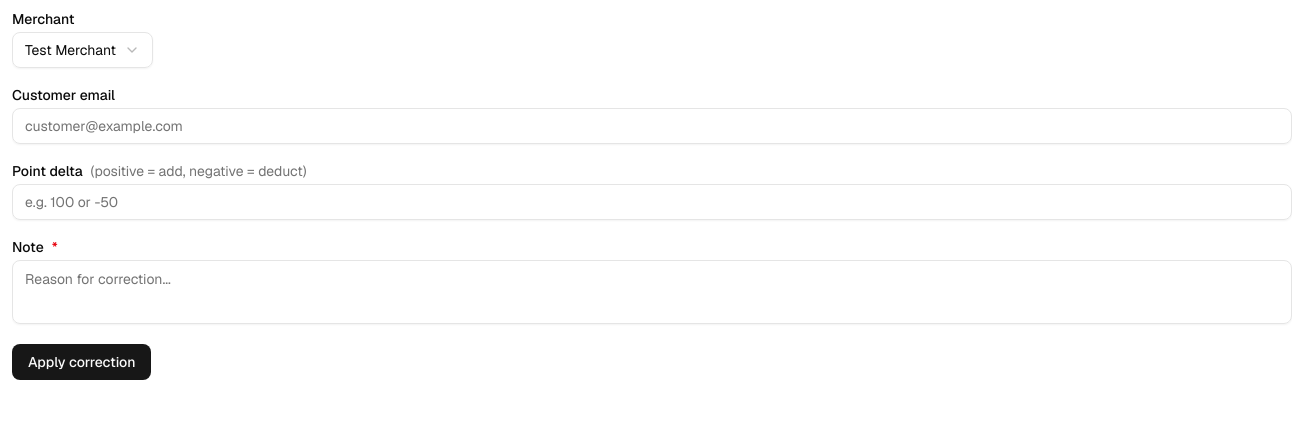
Test: CorrectionForm › shows error when delta is 0
Type "user@example.com" into the field labelled "Customer email" at (652, 126), box top-left (12, 108), bottom-right (1292, 144)
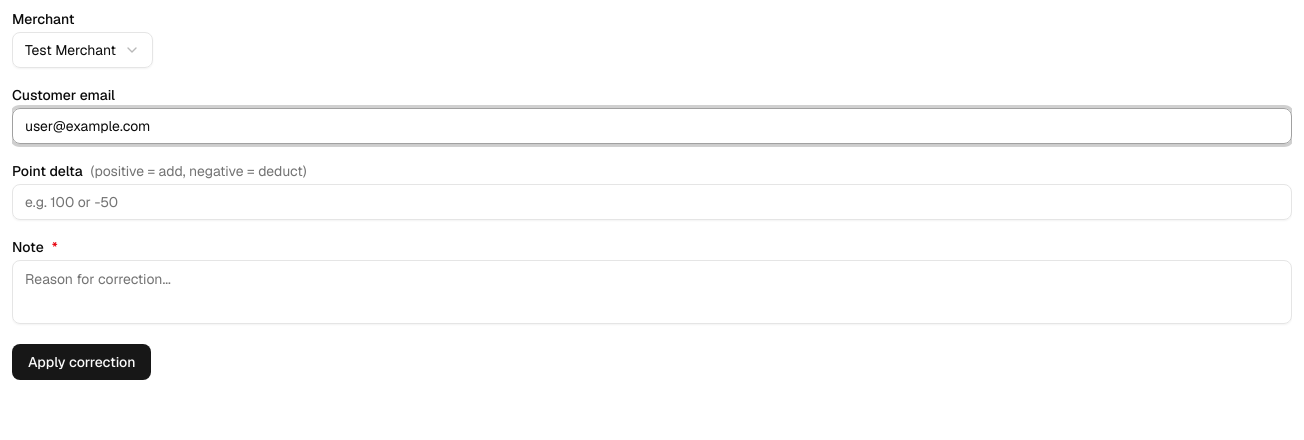
Type "0" into the number field labelled "Point delta (positive = add, negative = deduct)" at (652, 202), box top-left (12, 184), bottom-right (1292, 220)
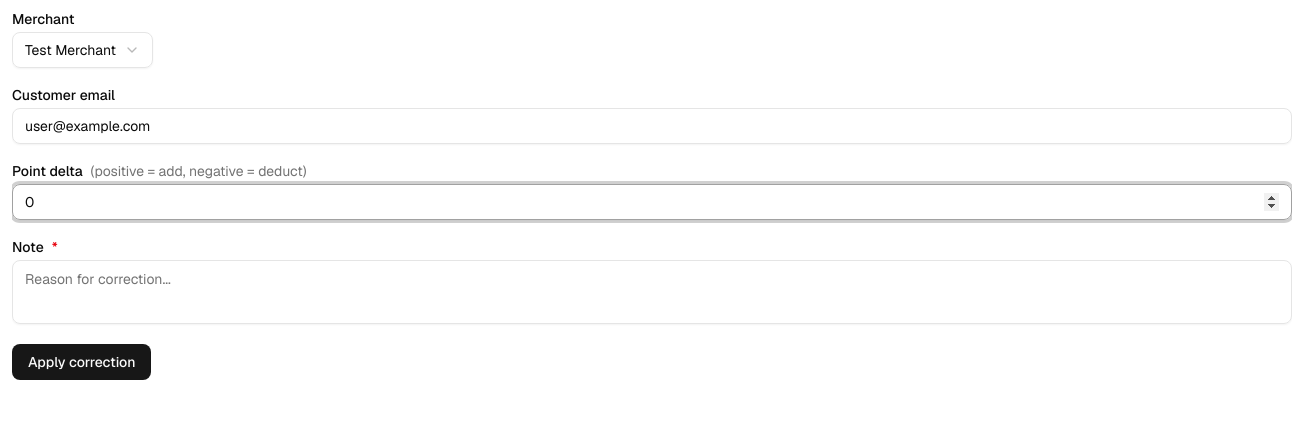
Type "some reason" into the text box labelled "Note *" at (652, 292), box top-left (12, 260), bottom-right (1292, 324)
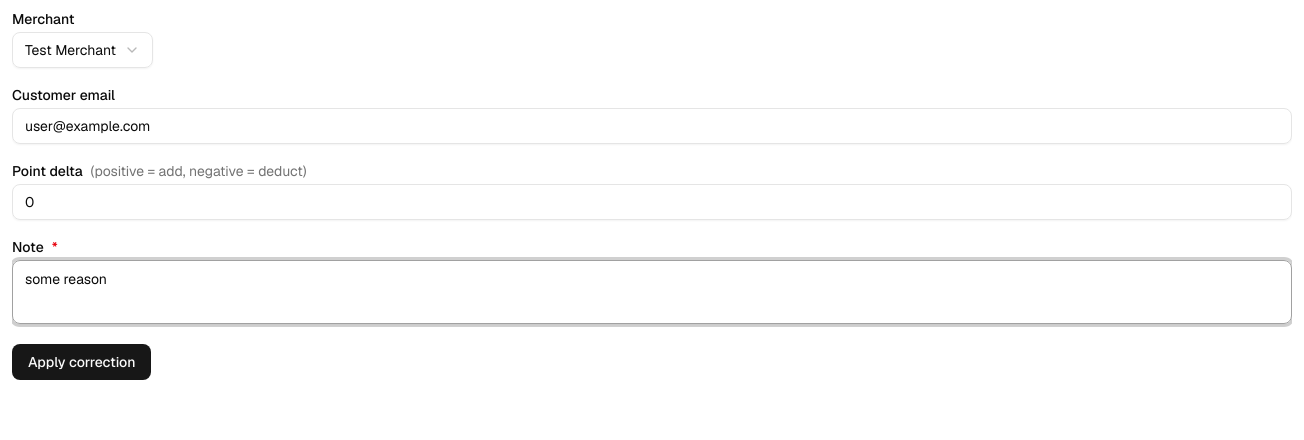
Click the button "Apply correction" at (82, 362), box top-left (12, 344), bottom-right (152, 380)
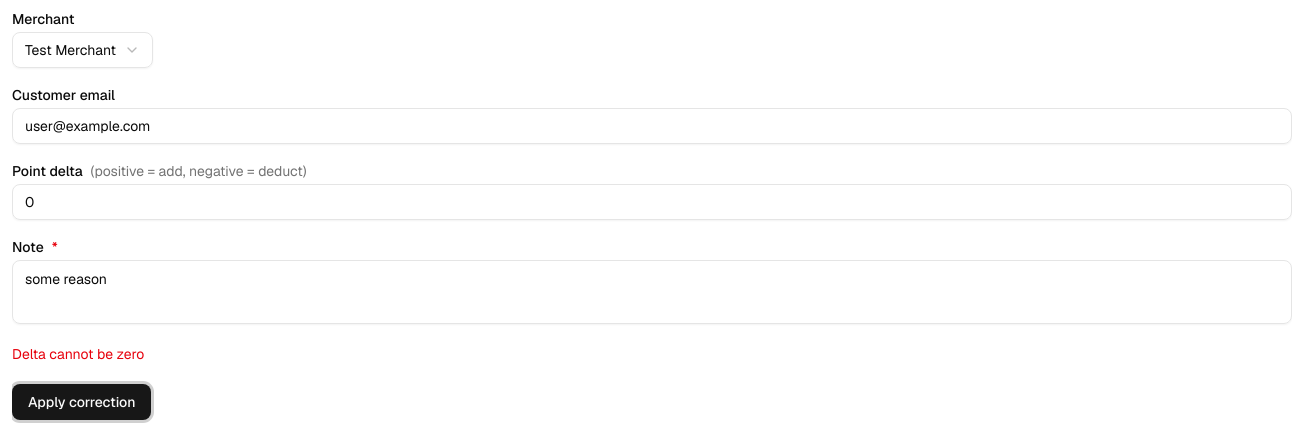
Check: the text "Delta cannot be zero" is shown, box top-left (12, 345), bottom-right (144, 363)
